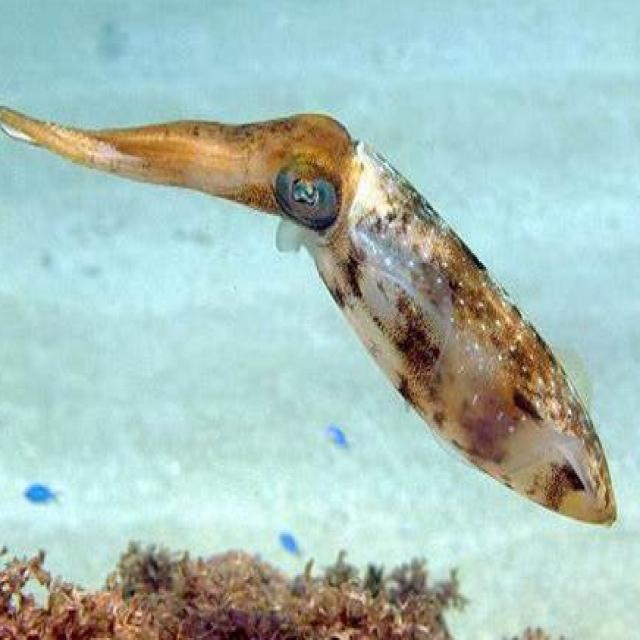SQUID: (0, 88, 627, 520)
